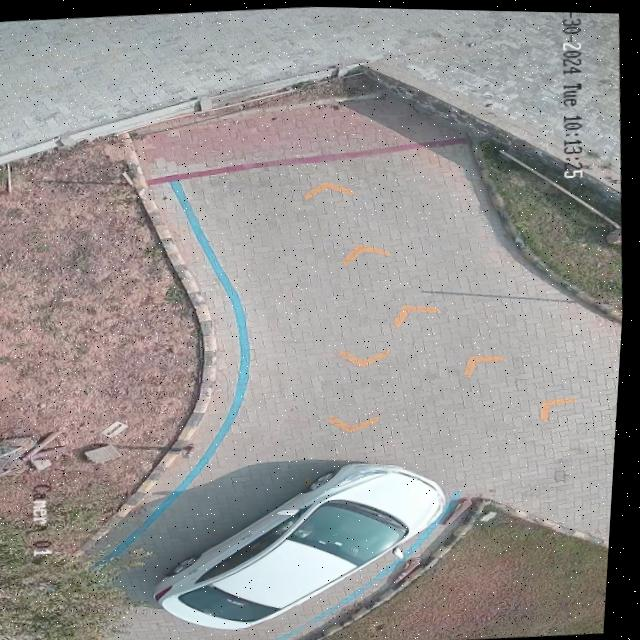car: (161, 461, 452, 628)
